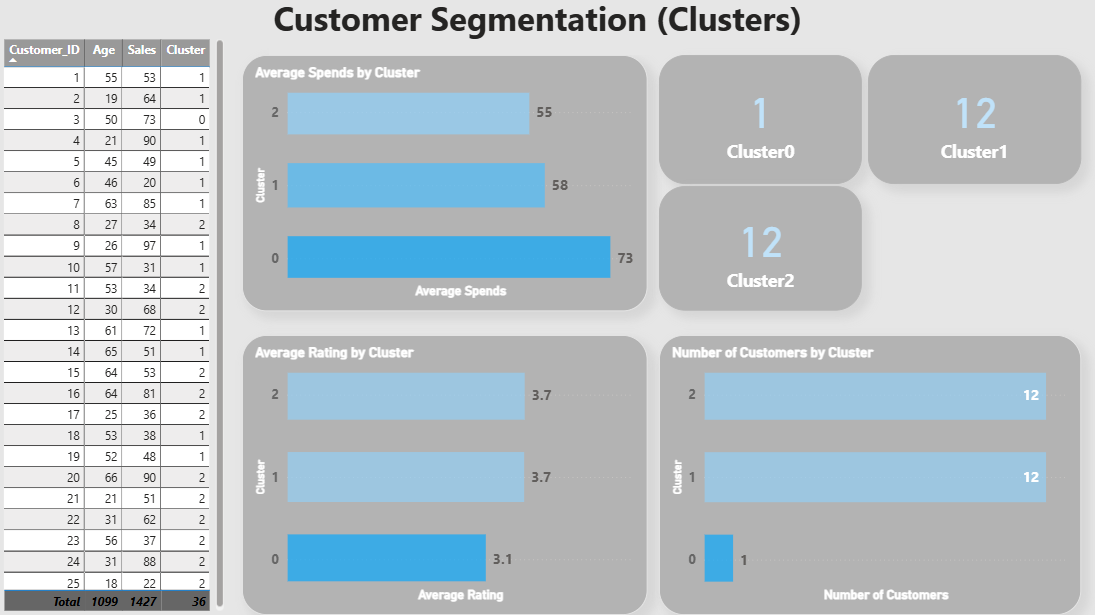

What the dashboard file says about the page in this screenshot:
{"tool":"powerbi","page":{"name":"Clusters","canvas":[1280,720],"ordinal":3},"visuals":[{"type":"tableEx","fields":{"Values":["Cleaned_Data.Customer_ID","Sum(Cleaned_Data.Age)","Cleaned_Data.Total Sales","Sum(Cluster_Output.Cluster)"]},"box":[0,9.1,260.9,710.9],"z":0},{"type":"barChart","fields":{"Y":["Cleaned_Data.Average Spends"],"Category":["Cluster_Output.Cluster"]},"box":[276.7,82.6,461.6,291.9],"z":1000},{"type":"barChart","fields":{"Y":["Cleaned_Data.Average Rating"],"Category":["Cluster_Output.Cluster"]},"box":[276.7,401.2,461.6,318.6],"z":2000},{"type":"barChart","fields":{"Y":["CountNonNull(Cleaned_Data.Customer_ID)"],"Category":["Cluster_Output.Cluster"]},"box":[752.3,401.2,461.6,318.6],"z":3000},{"type":"textbox","box":[308.1,9.3,645.3,73.3],"z":4000},{"type":"card","fields":{"Values":["Cluster_Output.Cluster0"]},"box":[752.3,82.6,201.2,118.6],"z":5000},{"type":"card","fields":{"Values":["Cluster_Output.Cluster2"]},"box":[752.3,241.9,201.2,118.6],"z":6000},{"type":"card","fields":{"Values":["Cluster_Output.Cluster1"]},"box":[989.5,82.6,201.2,118.6],"z":7000}]}

Visuals, with their boxes on the page's 1280x720 design canvas (x1, y1, x2, y2). These are canvas units, not pixel positions in the 1095x615 screenshot, which may show the page scaled, cropped or inside an application window:
tableEx - Cleaned_Data.Customer_ID x Sum(Cleaned_Data.Age): bbox=[0, 9, 261, 720]
barChart - Cleaned_Data.Average Spends x Cluster_Output.Cluster: bbox=[277, 83, 738, 374]
barChart - Cleaned_Data.Average Rating x Cluster_Output.Cluster: bbox=[277, 401, 738, 720]
barChart - CountNonNull(Cleaned_Data.Customer_ID) x Cluster_Output.Cluster: bbox=[752, 401, 1214, 720]
textbox: bbox=[308, 9, 953, 83]
card - Cluster_Output.Cluster0: bbox=[752, 83, 954, 201]
card - Cluster_Output.Cluster2: bbox=[752, 242, 954, 360]
card - Cluster_Output.Cluster1: bbox=[990, 83, 1191, 201]
